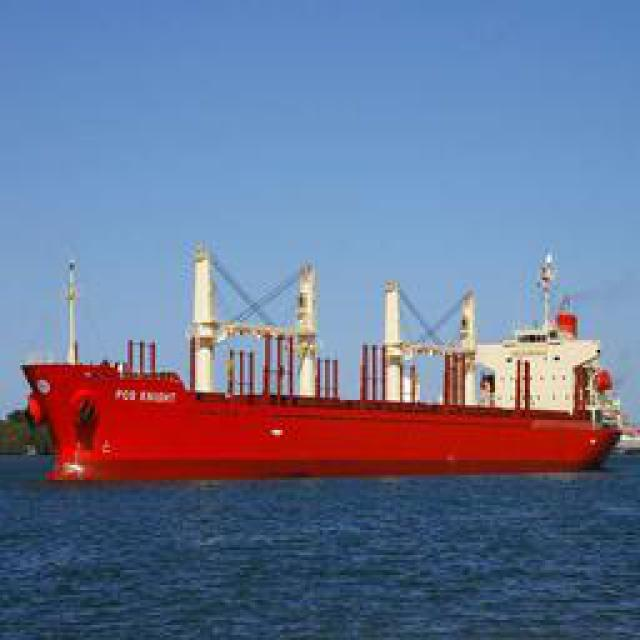Ship: (21, 241, 619, 479)
